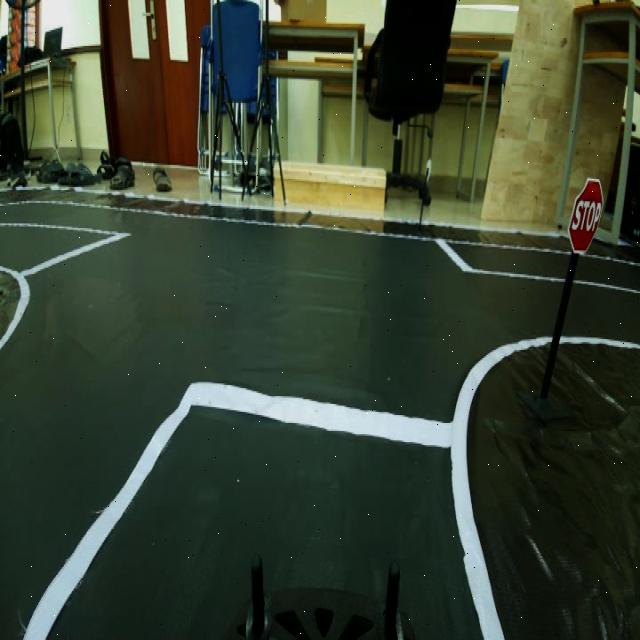stop: (563, 166, 605, 260)
